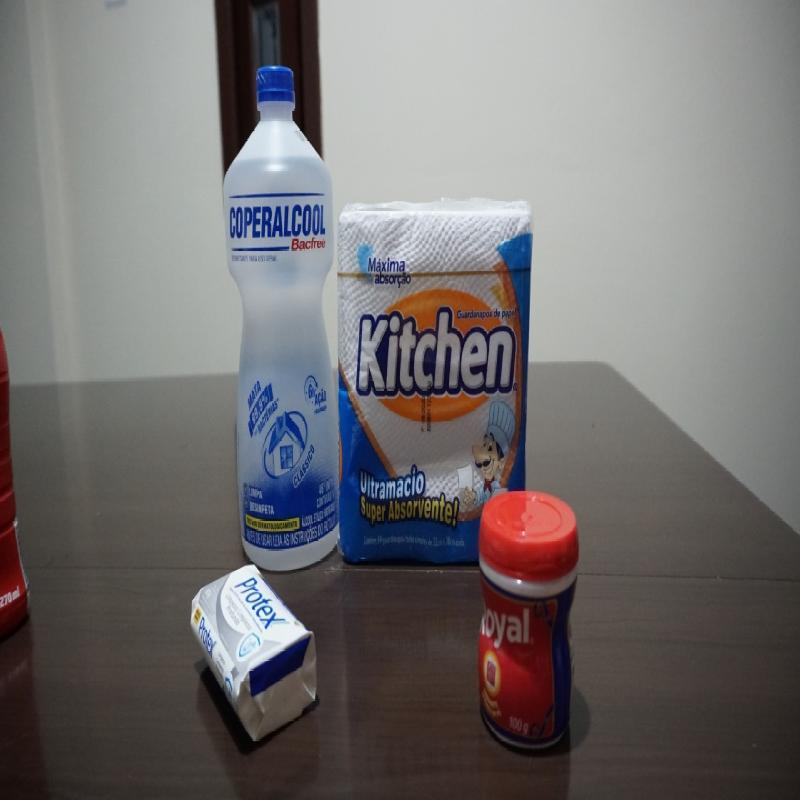Alcohol Bottle: (216, 62, 350, 576)
Chocolate Milk: (0, 284, 38, 663)
Napkin: (339, 196, 530, 562)
Soap: (182, 556, 330, 738)
Yeast: (471, 479, 581, 749)
